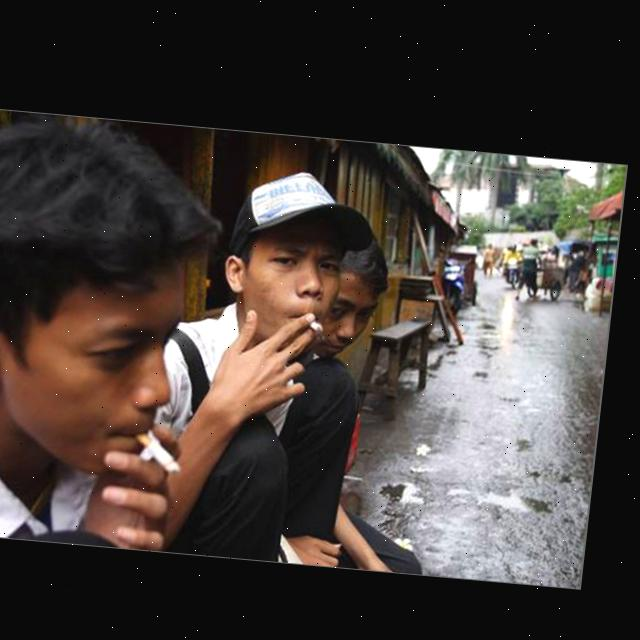cigarette: (143, 429, 195, 470), (317, 314, 331, 327)
